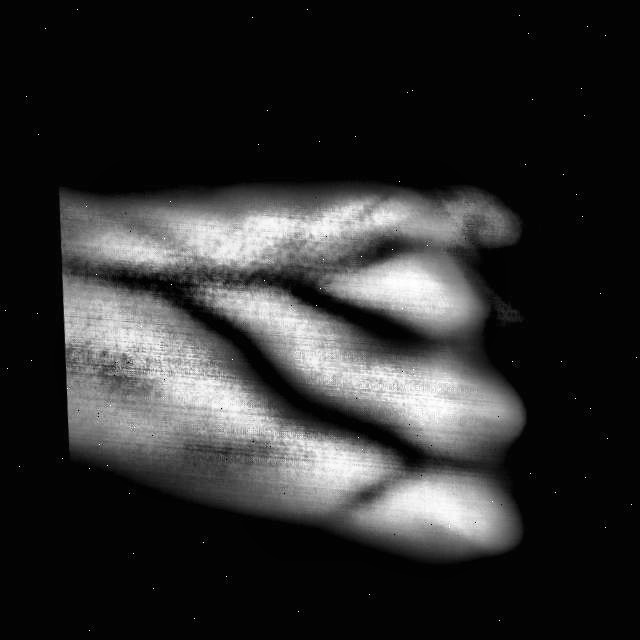Vein: (173, 279, 308, 413)
